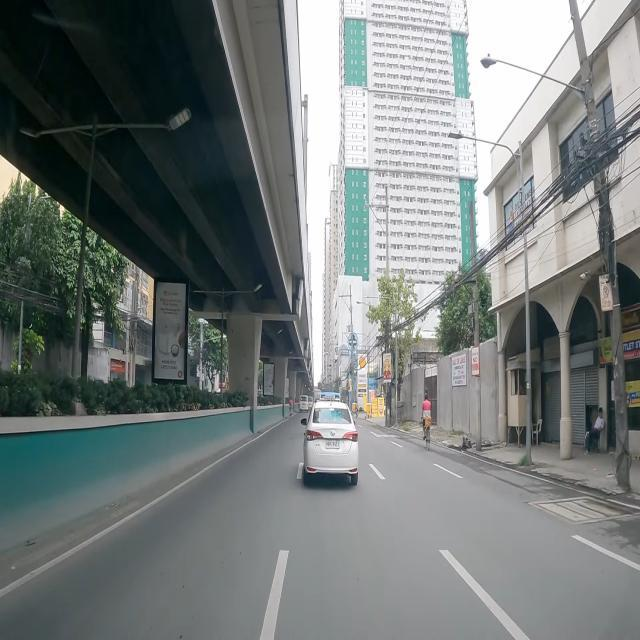bike: (422, 391, 432, 449), (288, 398, 294, 418)
car: (301, 400, 358, 484), (299, 394, 308, 412)
truck: (312, 388, 322, 401)
